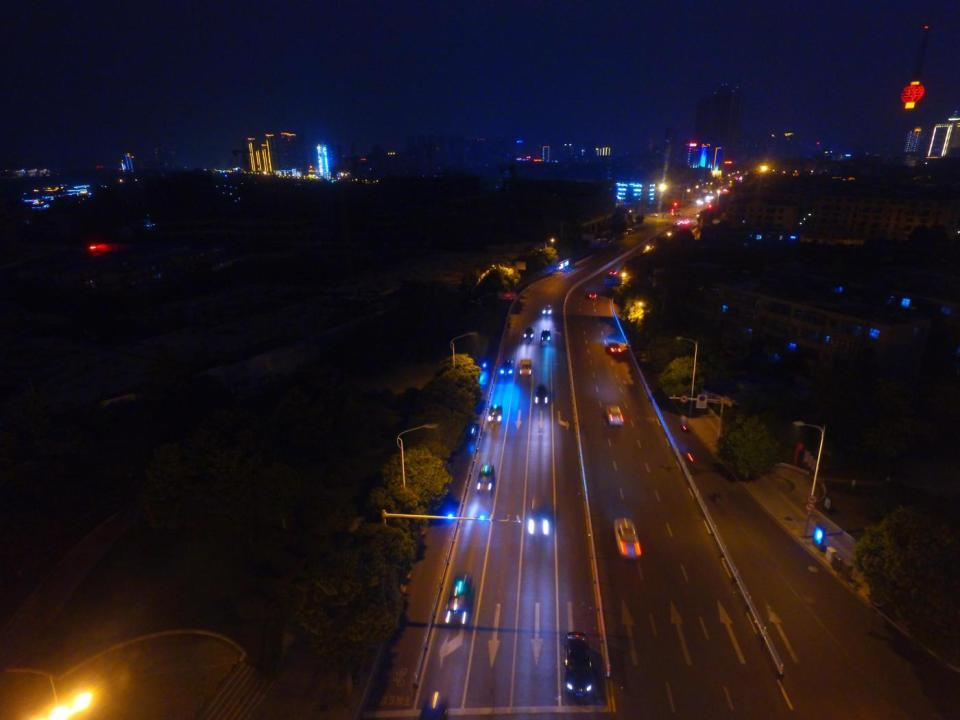car: (559, 630, 594, 701), (445, 572, 470, 627), (612, 517, 642, 560), (475, 462, 497, 494), (606, 405, 624, 429), (533, 385, 550, 406), (488, 403, 504, 425), (498, 359, 514, 380), (606, 342, 623, 356), (539, 328, 550, 343), (522, 328, 535, 340), (541, 303, 552, 316), (588, 290, 598, 300), (609, 269, 618, 277), (650, 213, 658, 216)
van: (530, 496, 552, 536), (518, 358, 534, 379)
